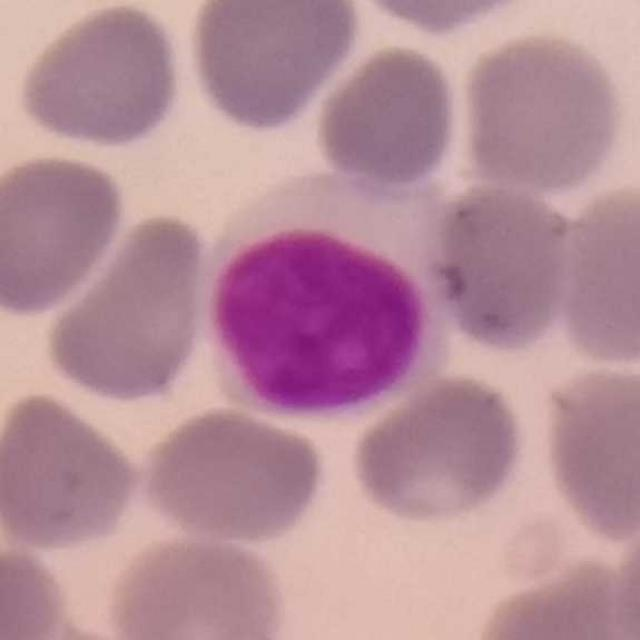Lymphocyte: (200, 170, 462, 424)
RBC: (38, 207, 216, 407), (454, 27, 630, 197), (347, 369, 531, 530), (133, 403, 330, 546), (425, 178, 580, 356), (12, 0, 188, 152), (184, 0, 365, 136), (1, 385, 146, 554), (311, 40, 464, 193), (0, 148, 130, 318), (104, 526, 292, 640), (535, 358, 640, 546), (553, 177, 640, 373), (468, 555, 639, 640), (335, 0, 544, 37), (0, 540, 73, 640)
